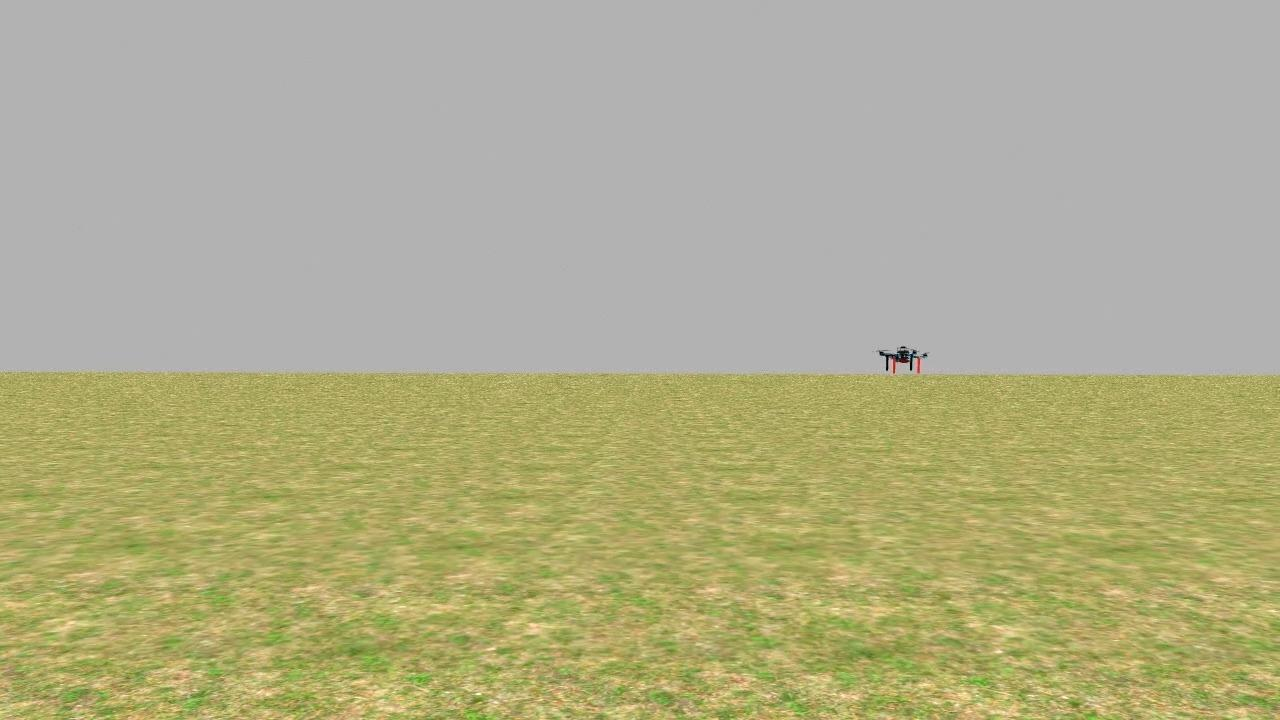UAV: (864, 325, 946, 379)
